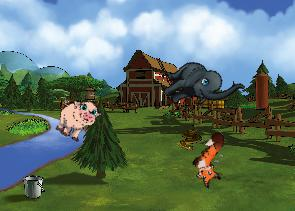elephant: (156, 42, 245, 128)
fox: (183, 129, 242, 191)
pig: (50, 92, 103, 146)
